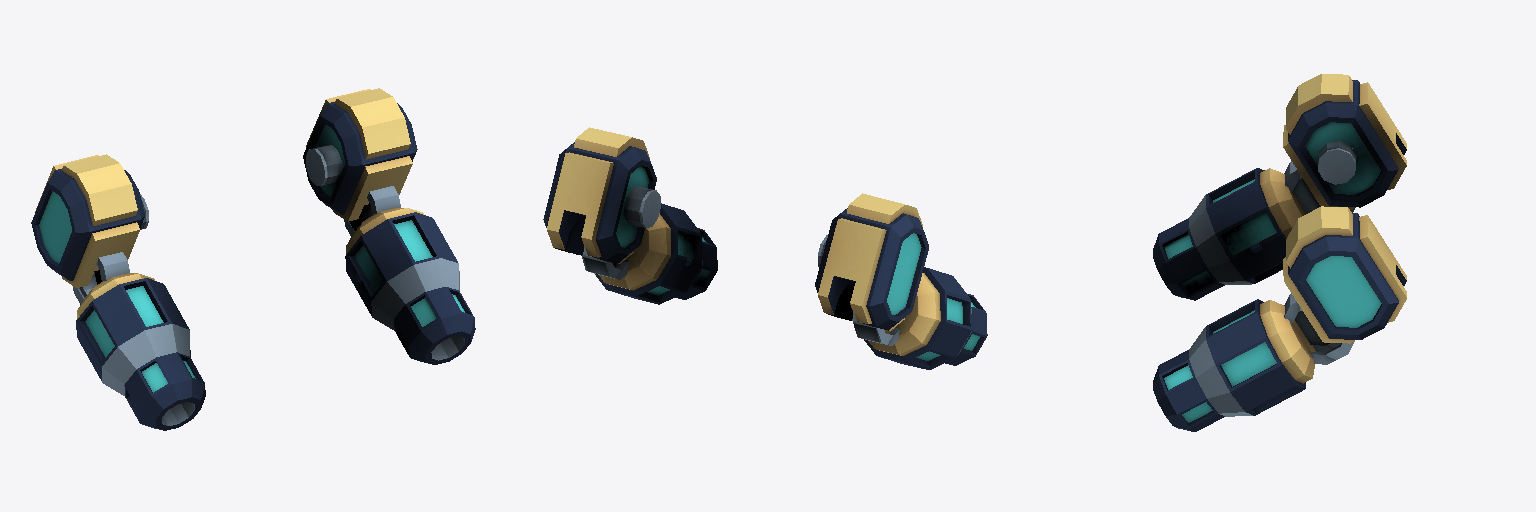
3 views of the same model, side by side, from view 1: azimuth 30°, elevation 25°; view 2: azimuth 150°, elevation 25°; view 3: azimuth 270°, elevation 25° (orthographic).
Visible parts, largest first — view 1: Object030, Object031, Object029, Object028; view 2: Object028, Object029, Object030, Object031; view 3: Object031, Object030, Object028, Object029.
Part boxes in pixels (x1,y1,x2,y2): Object030: (73, 252, 205, 430); Object031: (344, 186, 475, 364); Object029: (31, 154, 148, 287); Object028: (303, 88, 417, 221); Object028: (543, 127, 660, 263); Object029: (815, 193, 928, 330); Object030: (852, 267, 987, 369); Object031: (582, 203, 717, 304); Object031: (1153, 293, 1354, 431); Object030: (1153, 161, 1355, 300); Object028: (1283, 206, 1406, 343); Object029: (1283, 74, 1406, 210).
Bounding box in the file's own units: 338 × 191 × 208.
Materials: 1 (1 with a texture image).